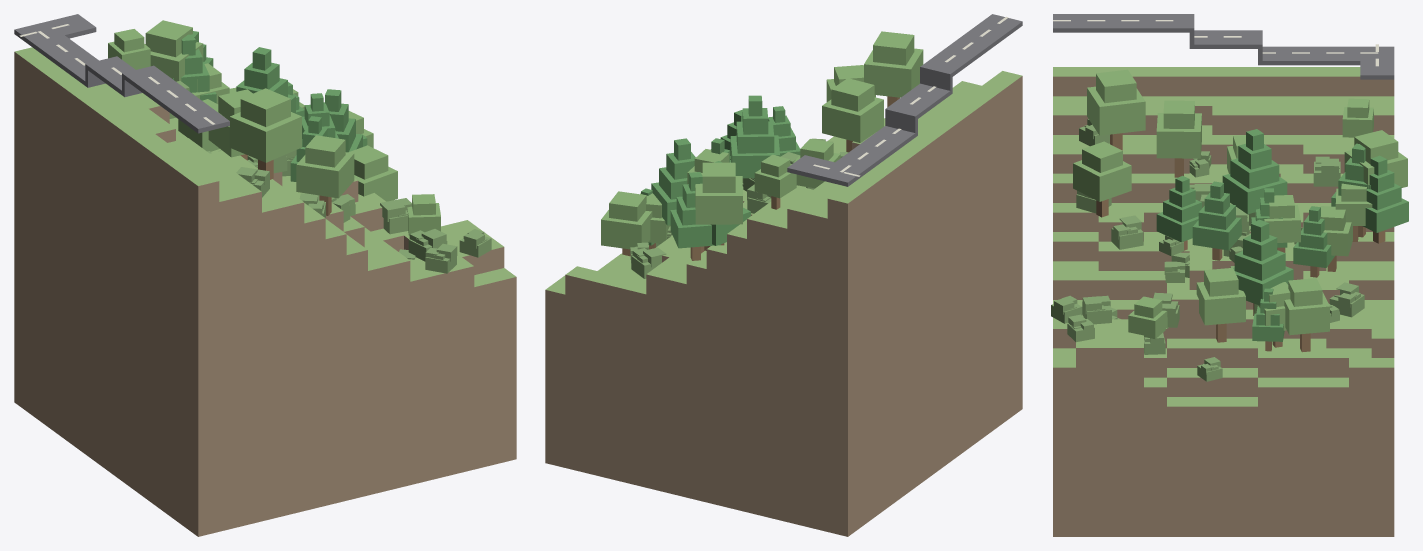
Rendered from block_25_riparian_100.glb.
3 views of the same model, side by side, from view 1: azimuth 30°, elevation 25°; view 2: azimuth 150°, elevation 25°; view 3: azimuth 270°, elevation 25° (orthographic). The views are drawn at different scales.
Parts seen in each view (by area): view 1: Patch_UpperRight_b25_RP, Roads_UpperRight_b25_RP, RP_Veg_25_006, RP_Veg_25_034, RP_Veg_25_019, RP_Veg_25_037, RP_Veg_25_000, RP_Veg_25_046, RP_Veg_25_041, RP_Veg_25_025, RP_Veg_25_038, RP_Veg_25_008 (+7 smaller); view 2: Patch_UpperRight_b25_RP, Roads_UpperRight_b25_RP, RP_Veg_25_038, RP_Veg_25_006, RP_Veg_25_019, RP_Veg_25_000, RP_Veg_25_045, RP_Veg_25_011, RP_Veg_25_025, RP_Veg_25_041, RP_Veg_25_010, RP_Veg_25_042 (+3 smaller); view 3: Patch_UpperRight_b25_RP, Roads_UpperRight_b25_RP, RP_Veg_25_006, RP_Veg_25_000, RP_Veg_25_025, RP_Veg_25_034, RP_Veg_25_038, RP_Veg_25_037, RP_Veg_25_011, RP_Veg_25_012, RP_Veg_25_045, RP_Veg_25_042 (+21 smaller).
Boxes of the visible parts, x1,y1,x2,y2 form: Patch_UpperRight_b25_RP: (14,47,516,536); Roads_UpperRight_b25_RP: (14,14,229,133); RP_Veg_25_006: (229,88,301,179); RP_Veg_25_034: (296,135,354,215); RP_Veg_25_019: (145,20,203,81); RP_Veg_25_037: (348,145,397,201); RP_Veg_25_000: (236,47,295,113); RP_Veg_25_046: (173,34,216,103); RP_Veg_25_041: (108,29,150,69); RP_Veg_25_025: (323,89,362,152); RP_Veg_25_038: (208,89,252,160); RP_Veg_25_008: (407,194,440,235); Patch_UpperRight_b25_RP: (545,71,1022,536); Roads_UpperRight_b25_RP: (787,14,1022,186); RP_Veg_25_038: (822,78,883,152); RP_Veg_25_006: (864,31,923,107); RP_Veg_25_019: (695,162,742,245); RP_Veg_25_000: (730,95,780,178); RP_Veg_25_045: (601,191,652,256); RP_Veg_25_011: (670,172,720,260); RP_Veg_25_025: (651,138,695,225); RP_Veg_25_041: (754,154,796,209); RP_Veg_25_010: (793,139,840,188); RP_Veg_25_042: (768,106,800,156); Patch_UpperRight_b25_RP: (1053,67,1394,536); Roads_UpperRight_b25_RP: (1053,14,1394,79); RP_Veg_25_006: (1087,69,1145,150); RP_Veg_25_000: (1222,129,1287,214); RP_Veg_25_025: (1233,219,1293,315); RP_Veg_25_034: (1073,141,1131,217); RP_Veg_25_038: (1156,100,1201,177); RP_Veg_25_037: (1196,268,1245,342); RP_Veg_25_011: (1362,155,1408,243); RP_Veg_25_012: (1192,181,1241,260); RP_Veg_25_045: (1284,278,1329,352); RP_Veg_25_042: (1156,175,1201,250).
Bounding box in the file's own units: 9.6 × 11.65 × 9.96.
